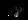person: (14, 8, 20, 17), (18, 6, 24, 15)
